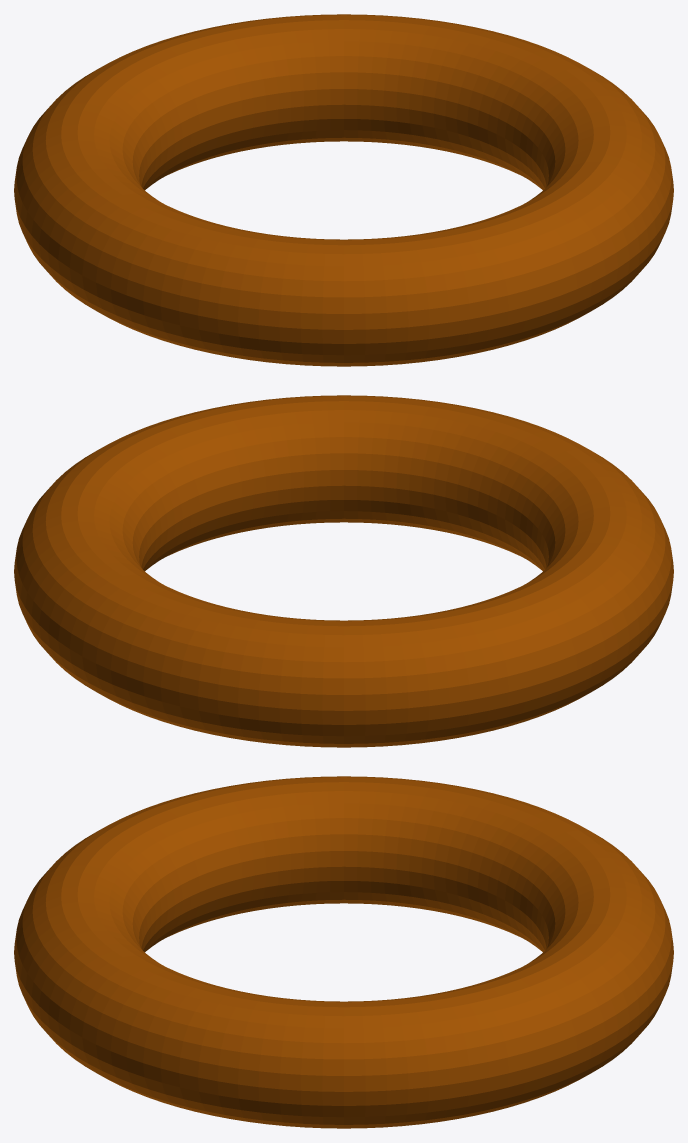
Rendered from donut.fbx.
3 renders of one model, top to bottom at view 1: azimuth 30°, elevation 25°; view 2: azimuth 150°, elevation 25°; view 3: azimuth 270°, elevation 25°, orthographic.
Parts seen in each view (by area): view 1: Torus; view 2: Torus; view 3: Torus.
Boxes of the visible parts, <box> form: Torus: <box>14,14,673,366</box>; Torus: <box>14,395,673,747</box>; Torus: <box>14,776,673,1128</box>.
Bounding box in the file's own units: 2334 × 451 × 2334.
